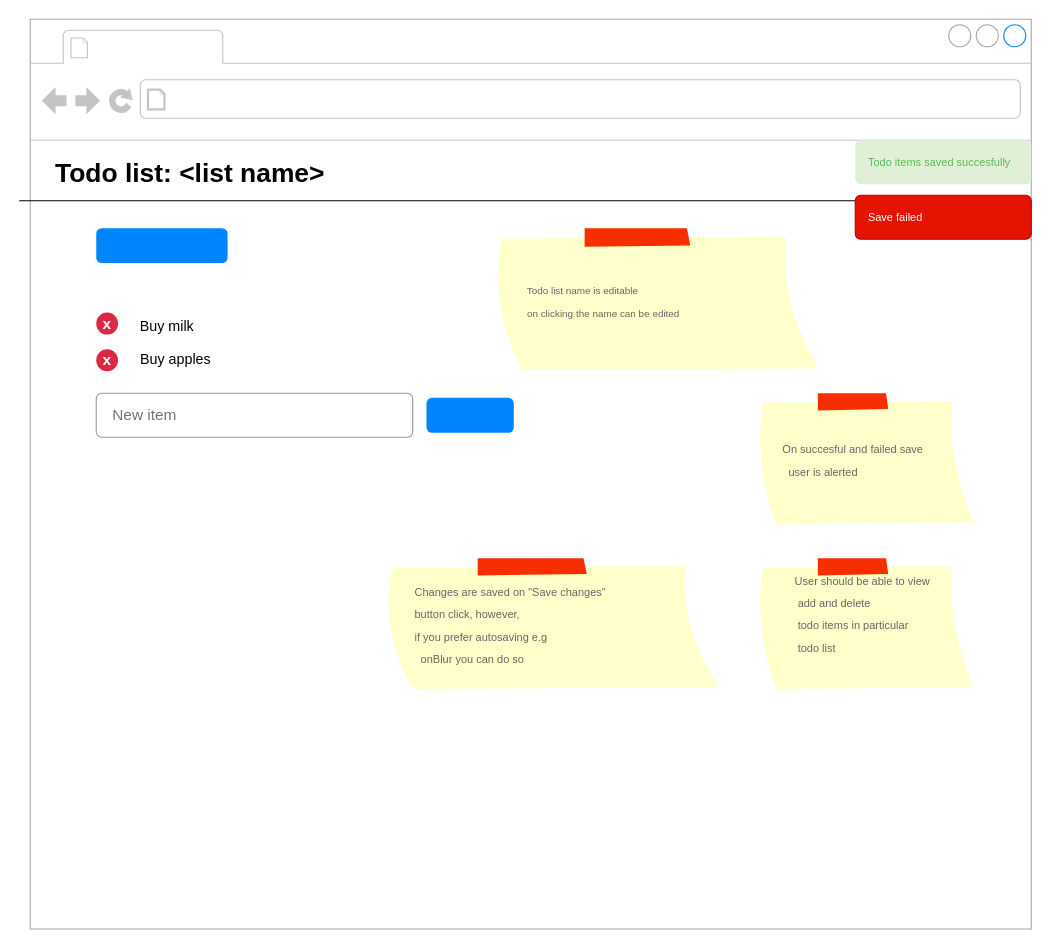
The diagram is 1051 pixels wide and 948 high, and some of its shapes have lost their labels. Here are the shapes that lost their labels. From the top down, the centre of each, then its label:
(156,46): Todo list
(310,99): https://localhost:7063/a943630a-e819-4389-8369-930a62e5535c
(161,245): Save changes
(469,414): Apply
